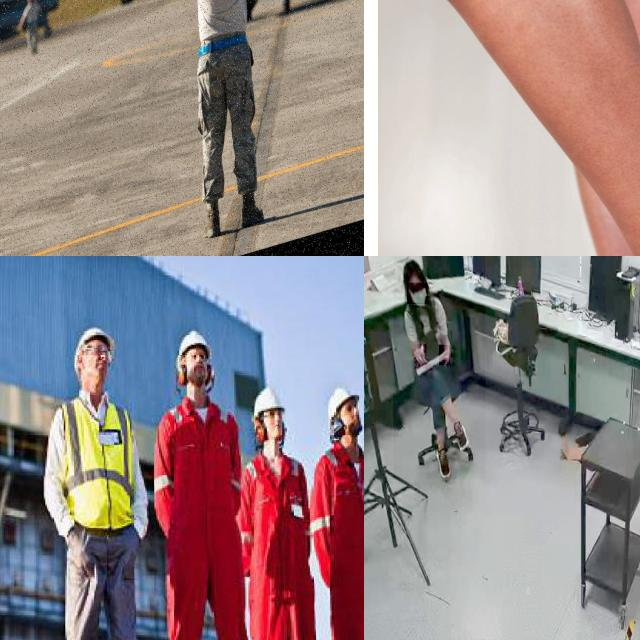Ear-protection: (163, 358, 223, 397), (248, 409, 293, 448), (330, 406, 360, 446)
face_mask: (407, 283, 429, 305)
glasses: (77, 340, 114, 366)
hand_noglove: (412, 344, 427, 364), (439, 345, 451, 366)
head_helmet: (325, 383, 364, 421), (248, 386, 290, 420), (173, 326, 217, 358)
head_nohelmet: (402, 258, 426, 282)
person: (32, 320, 165, 640), (143, 320, 263, 640), (167, 0, 274, 242), (393, 256, 486, 480), (240, 381, 320, 640), (309, 366, 364, 640)
shoes: (432, 442, 452, 481), (450, 416, 470, 454)
vest: (56, 397, 140, 538)
